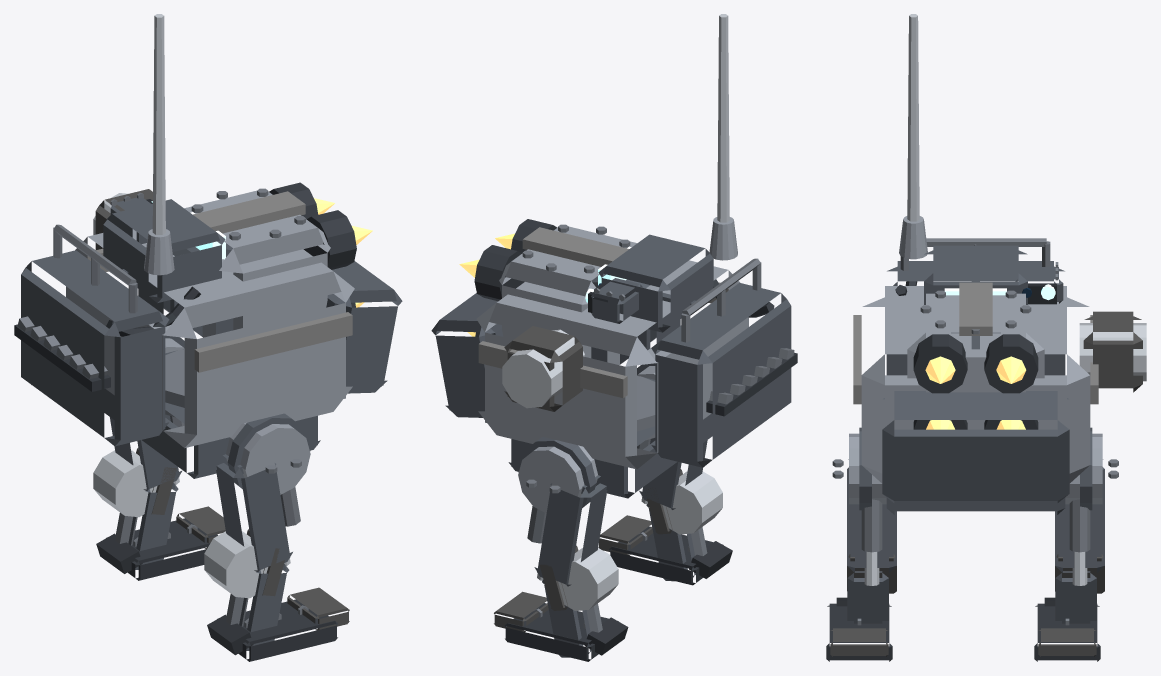
The model's file is rocket.glb.
3 views of the same model, side by side, from view 1: azimuth 30°, elevation 25°; view 2: azimuth 150°, elevation 25°; view 3: azimuth 270°, elevation 25° (orthographic). The views are drawn at different scales.
Parts seen in each view (by area): view 1: body, leg_1_b, turret, leg_0_a; view 2: body, leg_0_a, turret, leg_1_b; view 3: body, turret, leg_1_b, leg_0_a.
Boxes of the visible parts, left/top/right/bottom form: body: left=14, top=14, right=402, bottom=478; leg_1_b: left=204, top=413, right=349, bottom=661; turret: left=138, top=182, right=372, bottom=337; leg_0_a: left=93, top=335, right=225, bottom=580; body: left=431, top=14, right=797, bottom=498; leg_0_a: left=494, top=437, right=628, bottom=661; turret: left=459, top=219, right=680, bottom=364; leg_1_b: left=598, top=363, right=732, bottom=585; body: left=853, top=14, right=1146, bottom=514; turret: left=907, top=282, right=1044, bottom=429; leg_1_b: left=826, top=427, right=896, bottom=661; leg_0_a: left=1034, top=427, right=1118, bottom=661.
Size of the model in its own units: 15.95 by 31.39 by 15.41.
